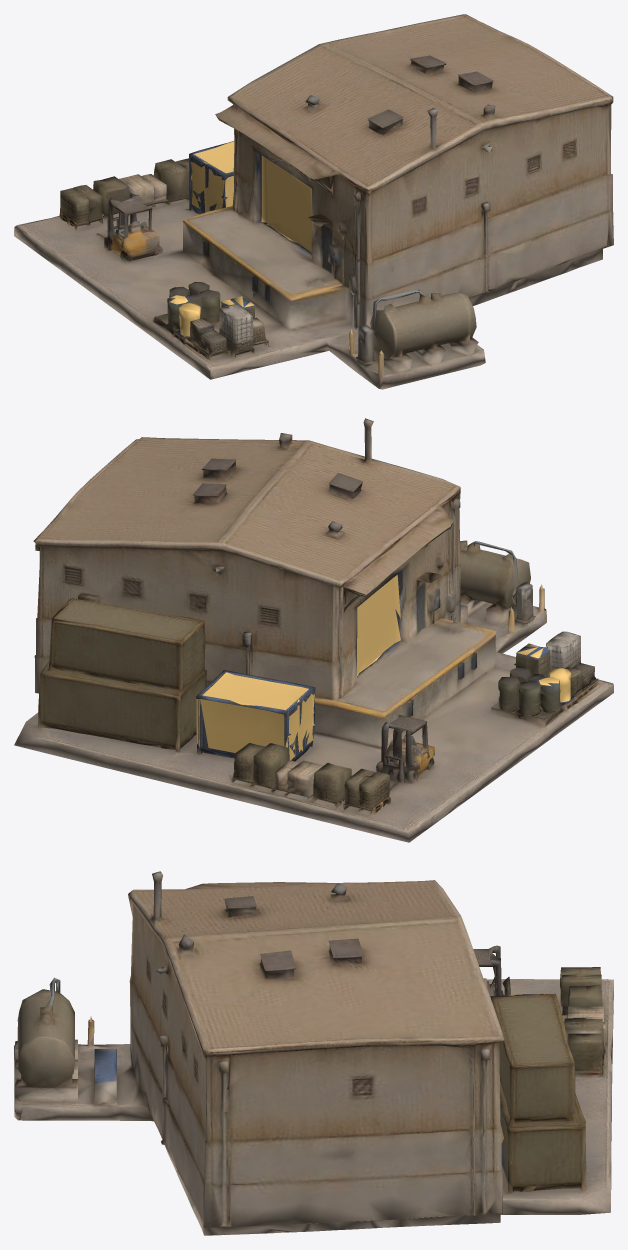
Rendered from storage.glb.
The picture shows the model from 3 angles, top to bottom: view 1: azimuth 30°, elevation 25°; view 2: azimuth 150°, elevation 25°; view 3: azimuth 270°, elevation 25°; orthographic projection. The views are drawn at different scales.
Visible parts, largest first — view 1: Model; view 2: Model; view 3: Model.
Part boxes in pixels (x1,y1,x2,y2): Model: (14,14,613,389); Model: (14,418,613,842); Model: (14,871,613,1235).
Bounding box in the file's own units: 2 × 0.9274 × 2.
Materials: 2 (1 with a texture image).
